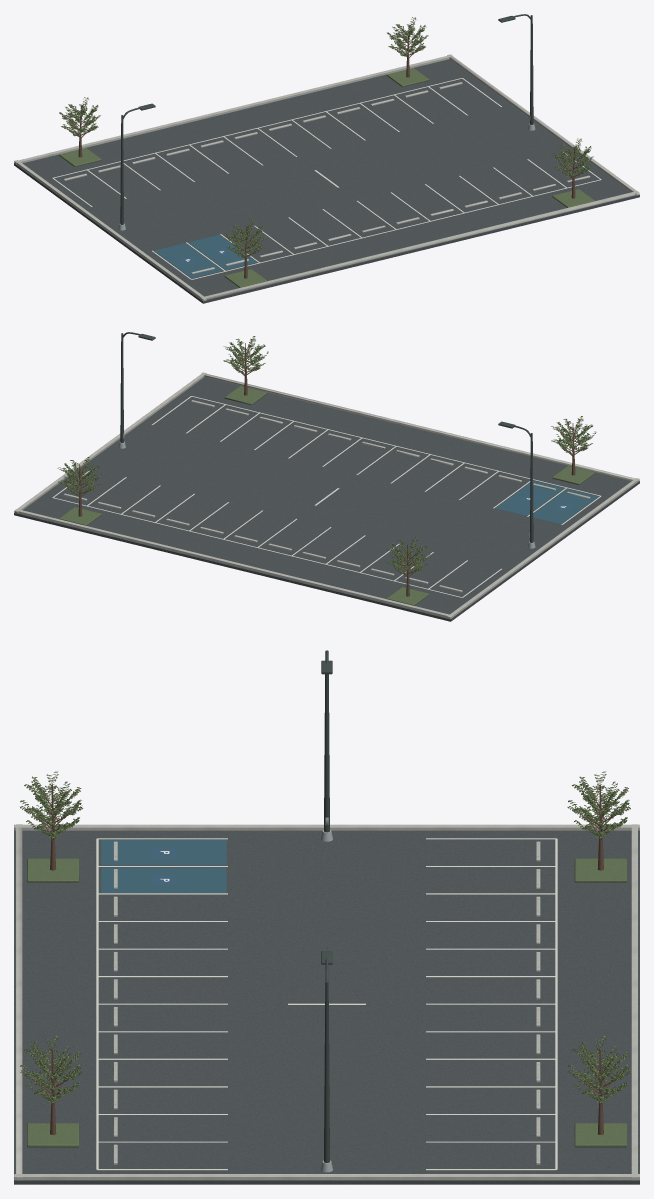
Rendered from surface-parking-lot.glb.
3 views of the same model, one above another, from view 1: azimuth 30°, elevation 25°; view 2: azimuth 150°, elevation 25°; view 3: azimuth 270°, elevation 25° (orthographic). The views are drawn at different scales.
Visible parts, largest first — view 1: surface-parking-lot_bituminous-asphalt, surface-parking-lot_light-precast-concrete, surface-parking-lot_off-white-painted, surface-parking-lot_utility-blue, surface-parking-lot_turf, surface-parking-lot_foliage-shade, surface-parking-lot_foliage-sage, surface-parking-lot_foliage-olive, surface-parking-lot_living-tree-bark, surface-parking-lot_powder-coated-frame; view 2: surface-parking-lot_bituminous-asphalt, surface-parking-lot_light-precast-concrete, surface-parking-lot_off-white-painted, surface-parking-lot_utility-blue, surface-parking-lot_turf, surface-parking-lot_foliage-shade, surface-parking-lot_foliage-olive, surface-parking-lot_living-tree-bark, surface-parking-lot_foliage-sage, surface-parking-lot_powder-coated-frame; view 3: surface-parking-lot_bituminous-asphalt, surface-parking-lot_light-precast-concrete, surface-parking-lot_off-white-painted, surface-parking-lot_utility-blue, surface-parking-lot_turf, surface-parking-lot_foliage-shade, surface-parking-lot_foliage-olive, surface-parking-lot_living-tree-bark, surface-parking-lot_foliage-sage, surface-parking-lot_powder-coated-frame.
Boxes of the visible parts, left/top/right/bottom form: surface-parking-lot_bituminous-asphalt: left=14, top=59, right=639, bottom=303; surface-parking-lot_light-precast-concrete: left=14, top=54, right=639, bottom=301; surface-parking-lot_off-white-painted: left=52, top=78, right=601, bottom=279; surface-parking-lot_utility-blue: left=154, top=235, right=256, bottom=278; surface-parking-lot_turf: left=59, top=68, right=594, bottom=287; surface-parking-lot_foliage-shade: left=59, top=17, right=591, bottom=257; surface-parking-lot_foliage-sage: left=59, top=17, right=593, bottom=257; surface-parking-lot_foliage-olive: left=61, top=20, right=593, bottom=256; surface-parking-lot_living-tree-bark: left=63, top=18, right=589, bottom=278; surface-parking-lot_powder-coated-frame: left=120, top=14, right=533, bottom=224; surface-parking-lot_bituminous-asphalt: left=14, top=377, right=639, bottom=621; surface-parking-lot_light-precast-concrete: left=14, top=372, right=639, bottom=619; surface-parking-lot_off-white-painted: left=52, top=396, right=601, bottom=597; surface-parking-lot_utility-blue: left=495, top=480, right=597, bottom=524; surface-parking-lot_turf: left=59, top=386, right=594, bottom=605; surface-parking-lot_foliage-shade: left=57, top=339, right=595, bottom=574; surface-parking-lot_foliage-olive: left=58, top=336, right=592, bottom=574; surface-parking-lot_living-tree-bark: left=60, top=338, right=592, bottom=596; surface-parking-lot_foliage-sage: left=60, top=340, right=596, bottom=572; surface-parking-lot_powder-coated-frame: left=120, top=332, right=533, bottom=542; surface-parking-lot_bituminous-asphalt: left=14, top=831, right=639, bottom=1184; surface-parking-lot_light-precast-concrete: left=14, top=824, right=639, bottom=1180; surface-parking-lot_off-white-painted: left=96, top=838, right=557, bottom=1170; surface-parking-lot_utility-blue: left=101, top=840, right=226, bottom=892; surface-parking-lot_turf: left=27, top=858, right=626, bottom=1147; surface-parking-lot_foliage-shade: left=20, top=774, right=630, bottom=1102; surface-parking-lot_foliage-olive: left=26, top=775, right=628, bottom=1102; surface-parking-lot_living-tree-bark: left=21, top=774, right=628, bottom=1134; surface-parking-lot_foliage-sage: left=22, top=771, right=629, bottom=1103; surface-parking-lot_powder-coated-frame: left=321, top=650, right=332, bottom=1162.
Bounding box in the file's own units: 32 × 8.38 × 24.
7 materials, 7 textured.
